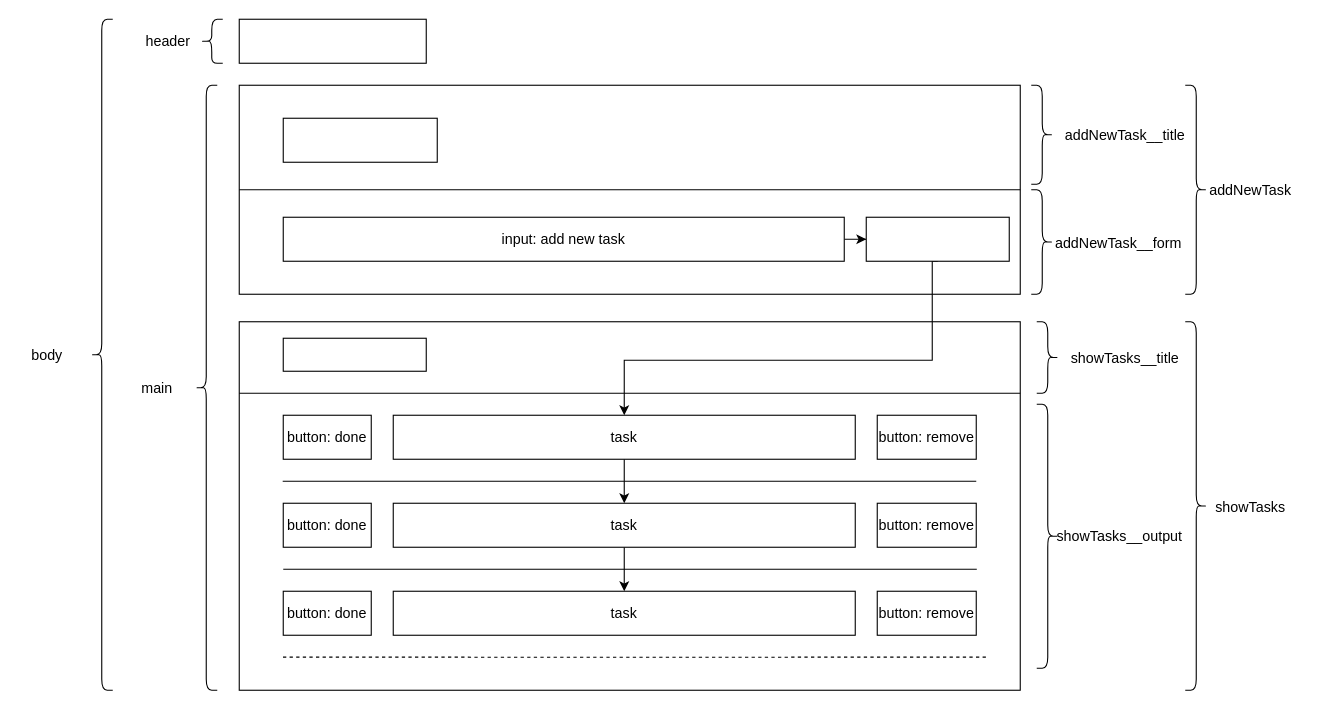
This 1323x710 diagram has some shape labels left out. The shapes that lost their labels are listed below. From the top down, each one's box as (x1, y1, x2, y2) in pixels, then its label:
(238, 18, 426, 63): HEADER TITLE
(282, 117, 437, 162): header: add new task
(865, 216, 1009, 261): button: add new task
(282, 337, 426, 371): header: tasks list
